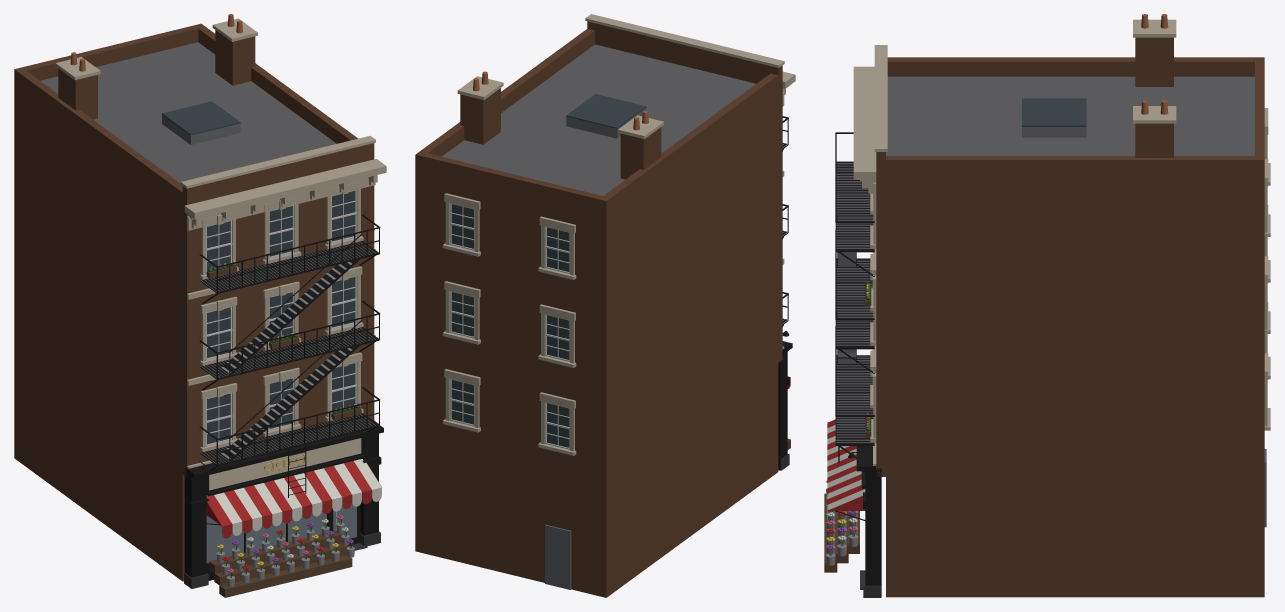
Rendered from dukkan_cicekci.glb.
The picture shows the model from 3 angles, left to right: view 1: azimuth 30°, elevation 25°; view 2: azimuth 150°, elevation 25°; view 3: azimuth 270°, elevation 25°; orthographic projection. The views are drawn at different scales.
Visible parts, largest first — view 1: Dukkan_Cicekci; view 2: Dukkan_Cicekci; view 3: Dukkan_Cicekci.
Boxes of the visible parts, <box> form: Dukkan_Cicekci: <box>14,14,386,597</box>; Dukkan_Cicekci: <box>415,14,795,597</box>; Dukkan_Cicekci: <box>824,14,1270,597</box>.
Size of the model in its own units: 7.7 by 16.64 by 13.78.
